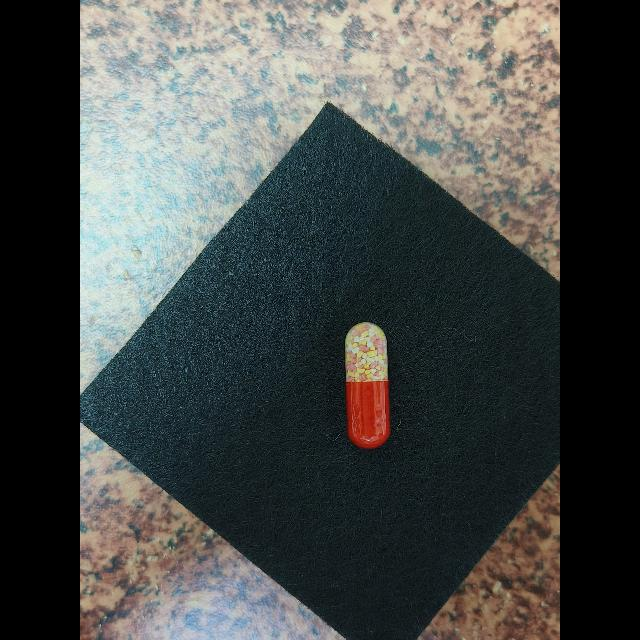Intact Capsule: (345, 322, 390, 449)
